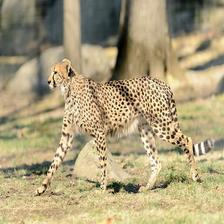Cheetah: (34, 59, 216, 196)
